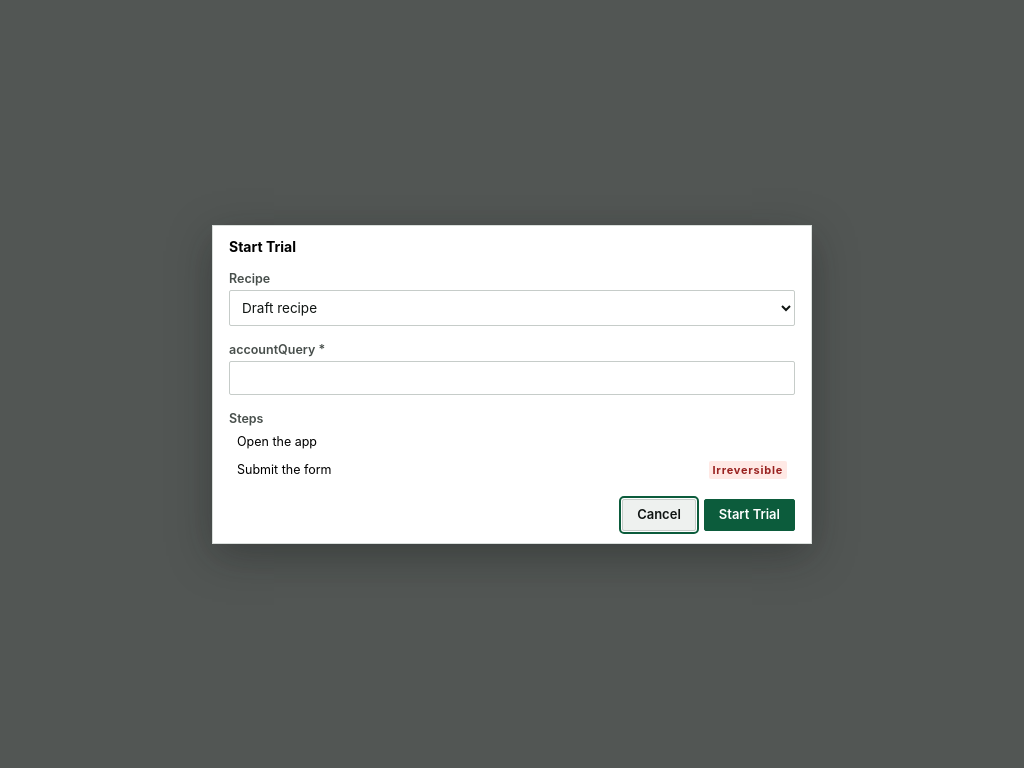
Test: StartRecipeJobModal › rejects submission missing a required Ingredient
The width and height of the screenshot is (1024, 768).
Click the button "Start Trial".
click(749, 514)  # box x1=704 y1=498 x2=795 y2=530
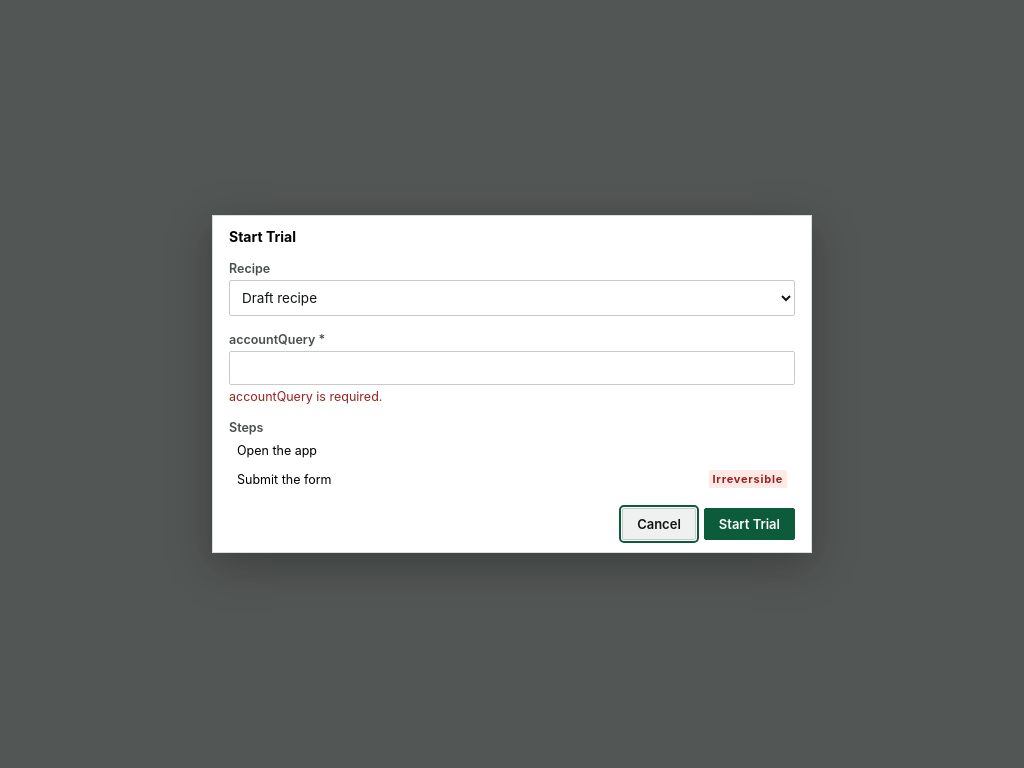
expect the text "accountQuery is required." is shown: met, box x1=229 y1=389 x2=382 y2=404
